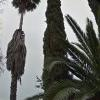Palm tree: (7, 2, 75, 73)
